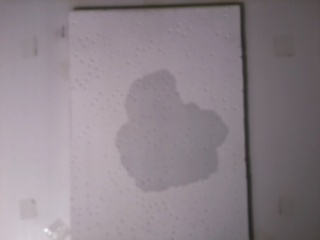Water_detected: (132, 83, 213, 183)
